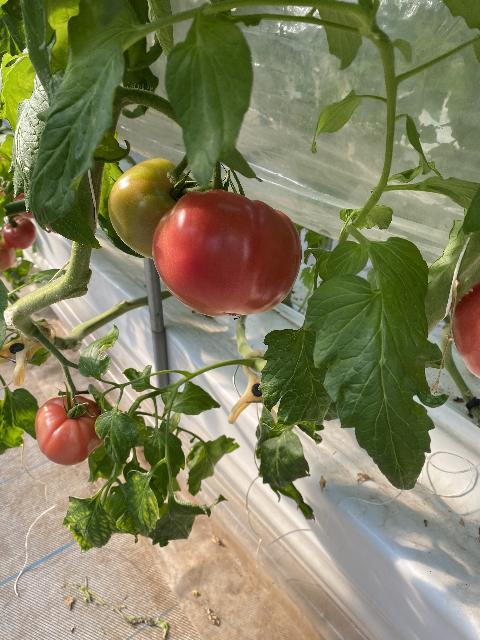b_fully_ripened: (152, 188, 303, 317), (34, 395, 107, 466), (2, 216, 37, 250)
b_half_ripened: (107, 158, 203, 258)
